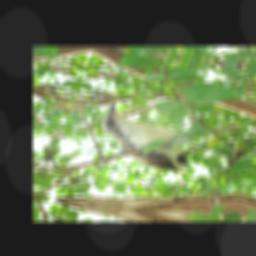Cuckoo: (85, 103, 211, 174)
